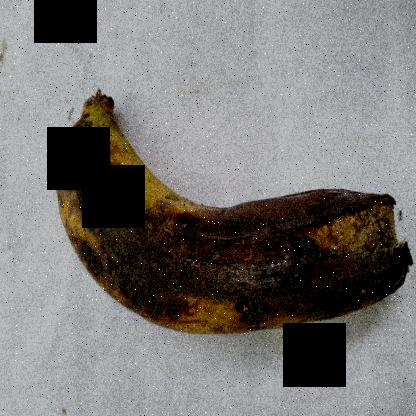rotten: (29, 114, 415, 379)
